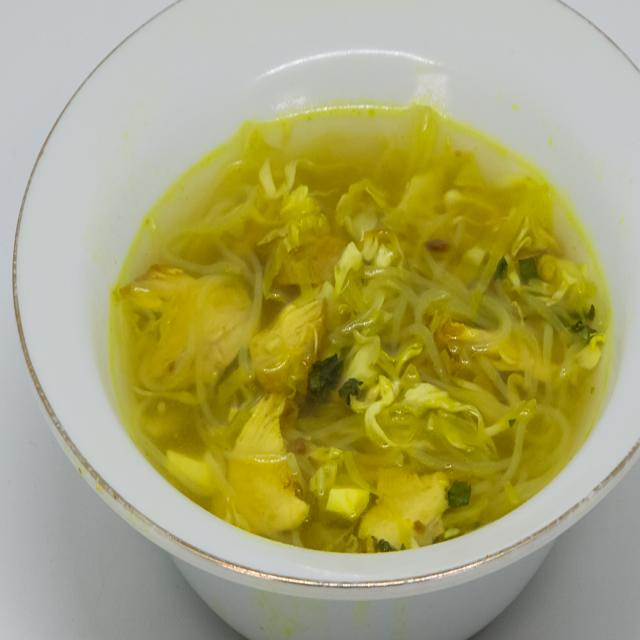Soto-Lamongan: (97, 79, 615, 570)
